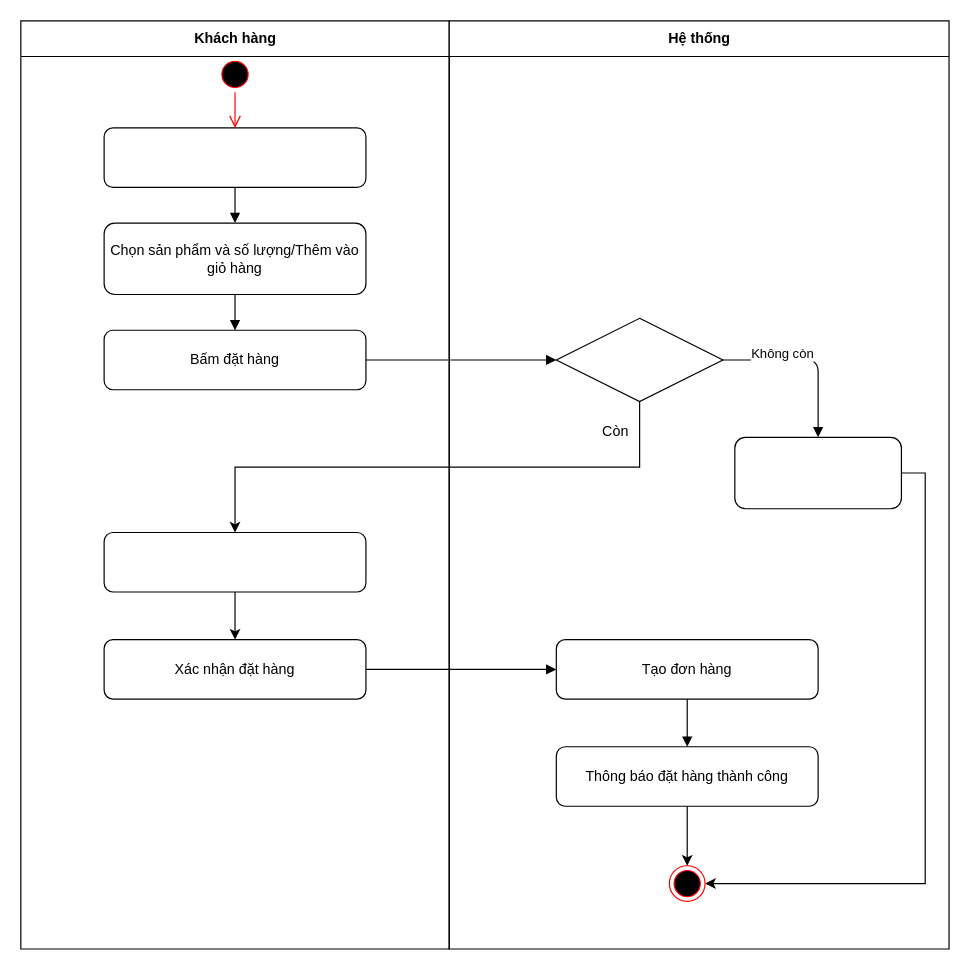
The diagram is 970 pixels wide and 970 high, and some of its shapes have lost their labels. Here are the shapes that lost their labels. From the top down, the box of each, then its label:
(103, 127, 366, 187): Xem danh sách sản phẩm
(555, 317, 723, 402): Kiểm tra tồn kho
(734, 436, 901, 509): Không tạo đơn
(103, 531, 366, 592): Nhập mã giảm giá
